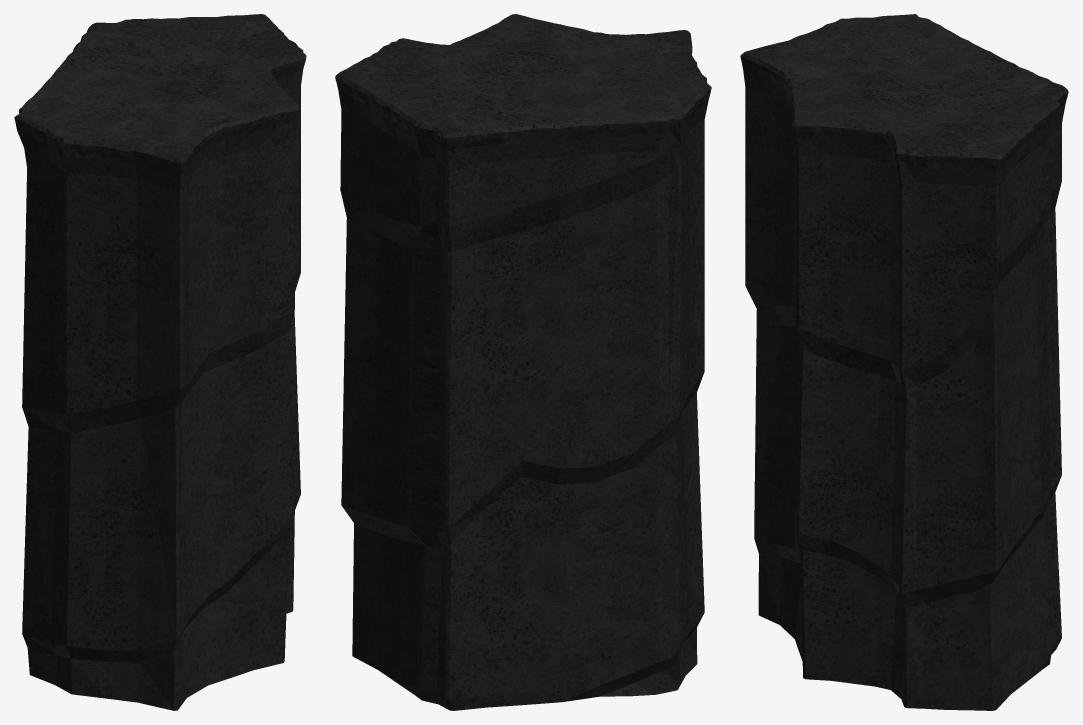
The model's file is TrapFloorM03.fbx.
3 renders of one model, left to right at view 1: azimuth 30°, elevation 25°; view 2: azimuth 150°, elevation 25°; view 3: azimuth 270°, elevation 25°, orthographic. The views are drawn at different scales.
Visible parts, largest first — view 1: SM_ENV_NATURE_Cave_SinkingFloor_03.mo; view 2: SM_ENV_NATURE_Cave_SinkingFloor_03.mo; view 3: SM_ENV_NATURE_Cave_SinkingFloor_03.mo.
Boxes of the visible parts, left/top/right/bottom form: SM_ENV_NATURE_Cave_SinkingFloor_03.mo: left=14, top=14, right=306, bottom=710; SM_ENV_NATURE_Cave_SinkingFloor_03.mo: left=335, top=14, right=711, bottom=710; SM_ENV_NATURE_Cave_SinkingFloor_03.mo: left=740, top=14, right=1068, bottom=710.
Size of the model in its own units: 274 by 501 by 265.
Materials: 2 (2 with a texture image).
